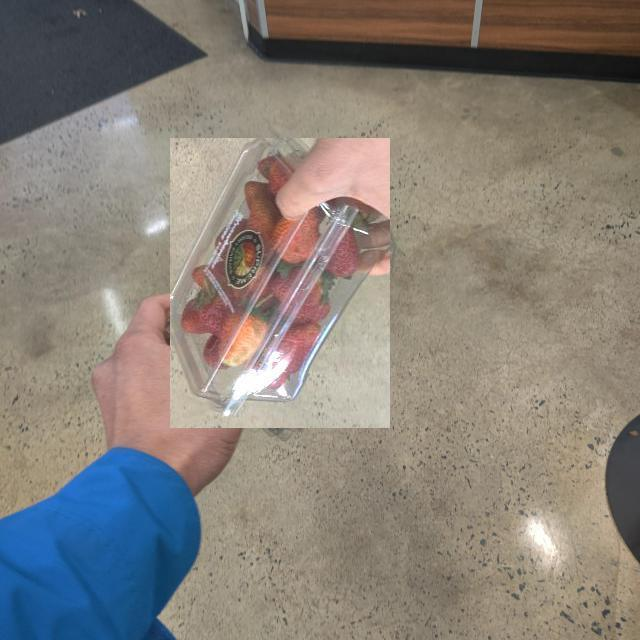Straw Berry: (170, 139, 390, 429)
